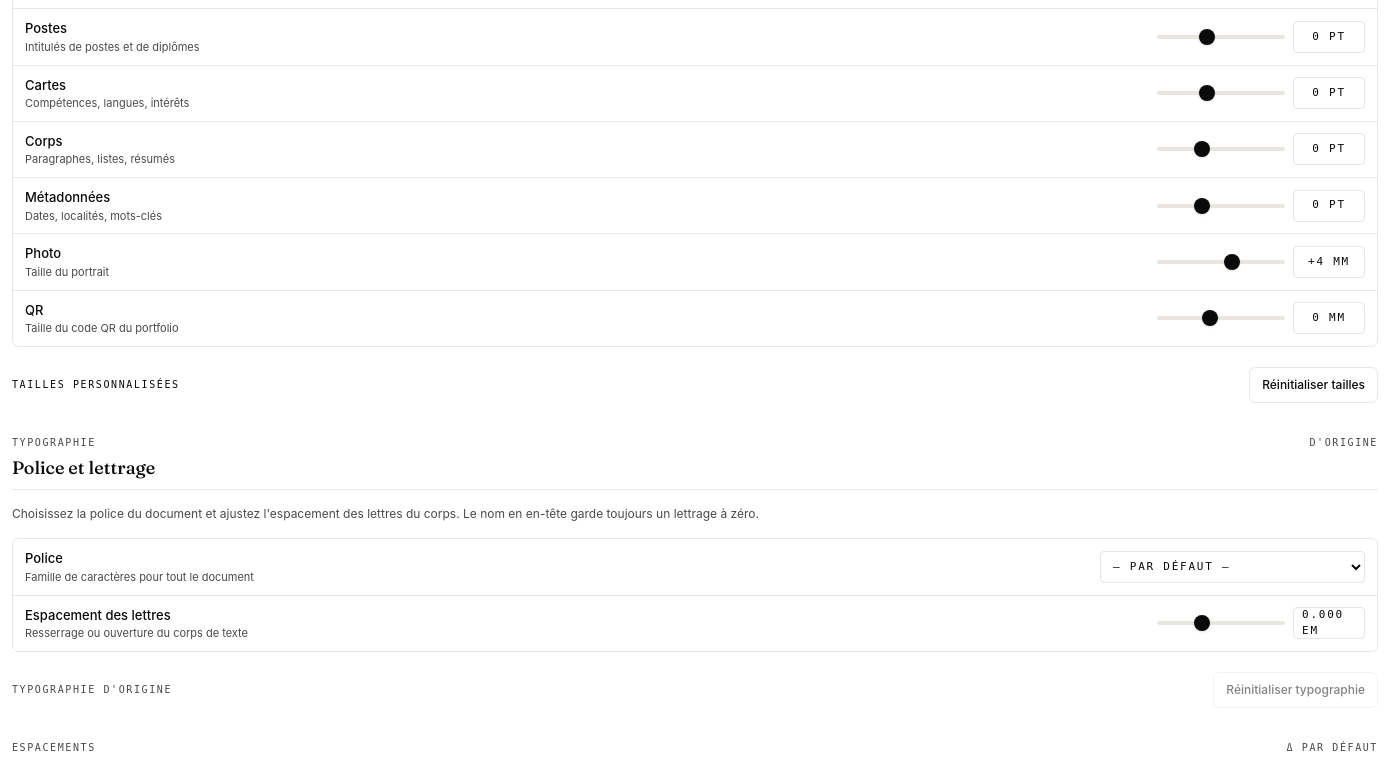
it: DesignPanel — Tailles › reset button restores defaults and disables itself
(page scrolled)
Step 1. Click the button "Réinitialiser tailles" → coordinates (1314, 385), box top-left (1249, 367), bottom-right (1378, 403)
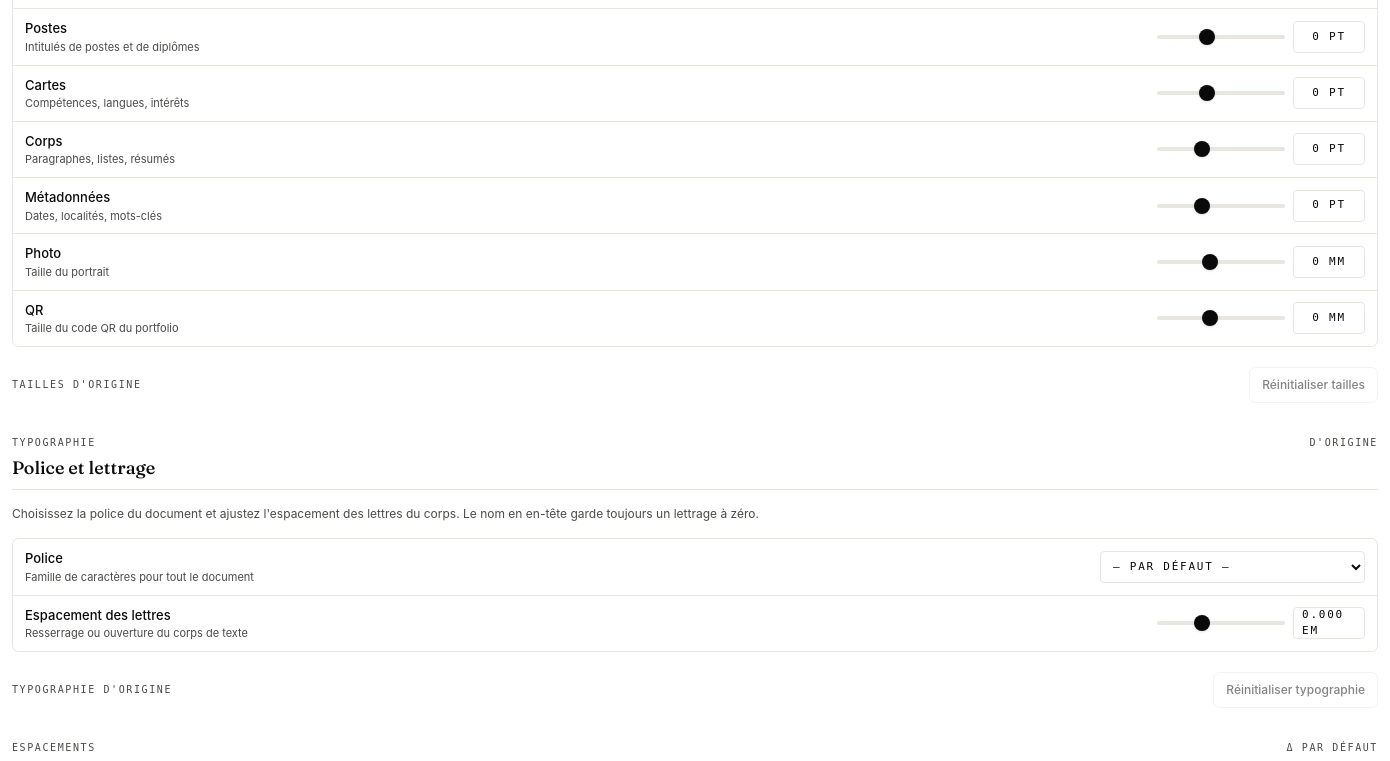
expect the slider named "Taille — QR" holds "0": met, box top-left (1157, 316), bottom-right (1285, 320)
expect the button "Réinitialiser tailles" is disabled: met, box top-left (1249, 367), bottom-right (1378, 403)
expect the slider named "Taille — Photo" holds "0": met, box top-left (1157, 260), bottom-right (1285, 264)
